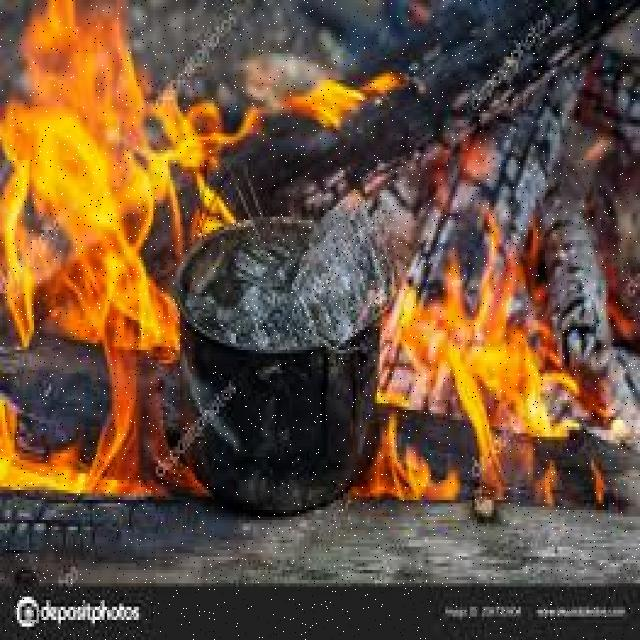fire: (4, 4, 199, 513), (379, 247, 640, 516), (238, 32, 426, 128)
